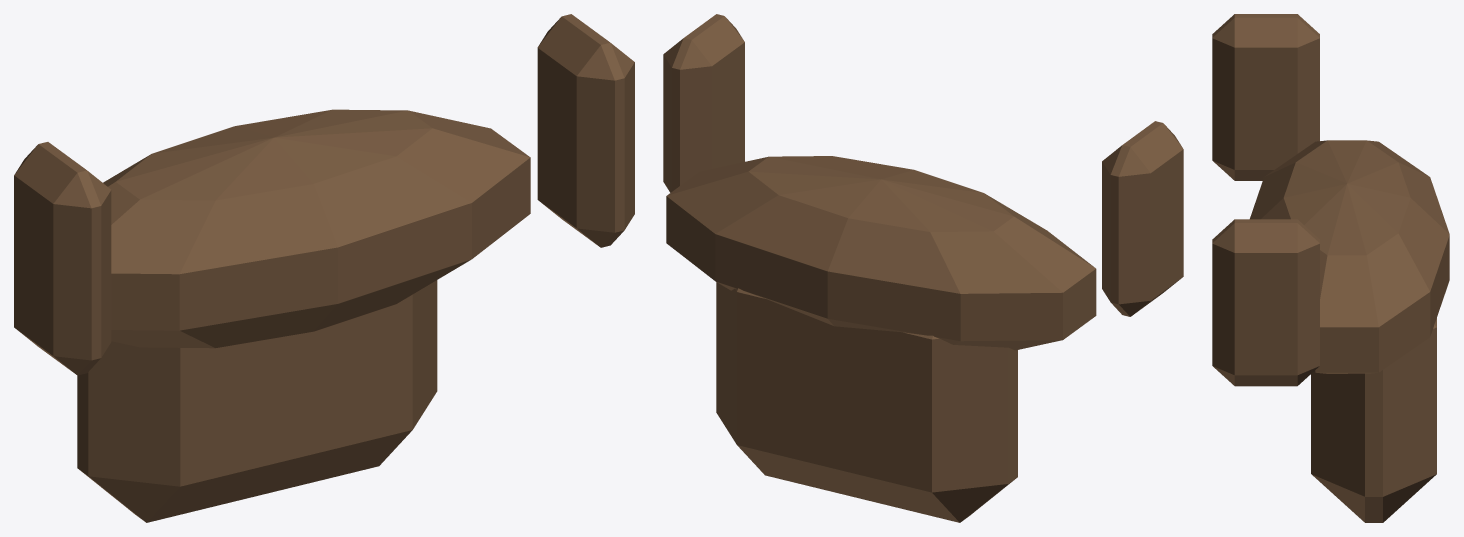
The model's file is face_beard.glb.
3 renders of one model, left to right at view 1: azimuth 30°, elevation 25°; view 2: azimuth 150°, elevation 25°; view 3: azimuth 270°, elevation 25°, orthographic. The views are drawn at different scales.
Visible parts, largest first — view 1: Head; view 2: Head; view 3: Head.
Boxes of the visible parts, bbox=[...] form: Head: bbox=[14, 14, 634, 522]; Head: bbox=[663, 14, 1183, 522]; Head: bbox=[1212, 14, 1449, 522].
Bounding box in the file's own units: 0.6 × 0.44 × 0.2641.
